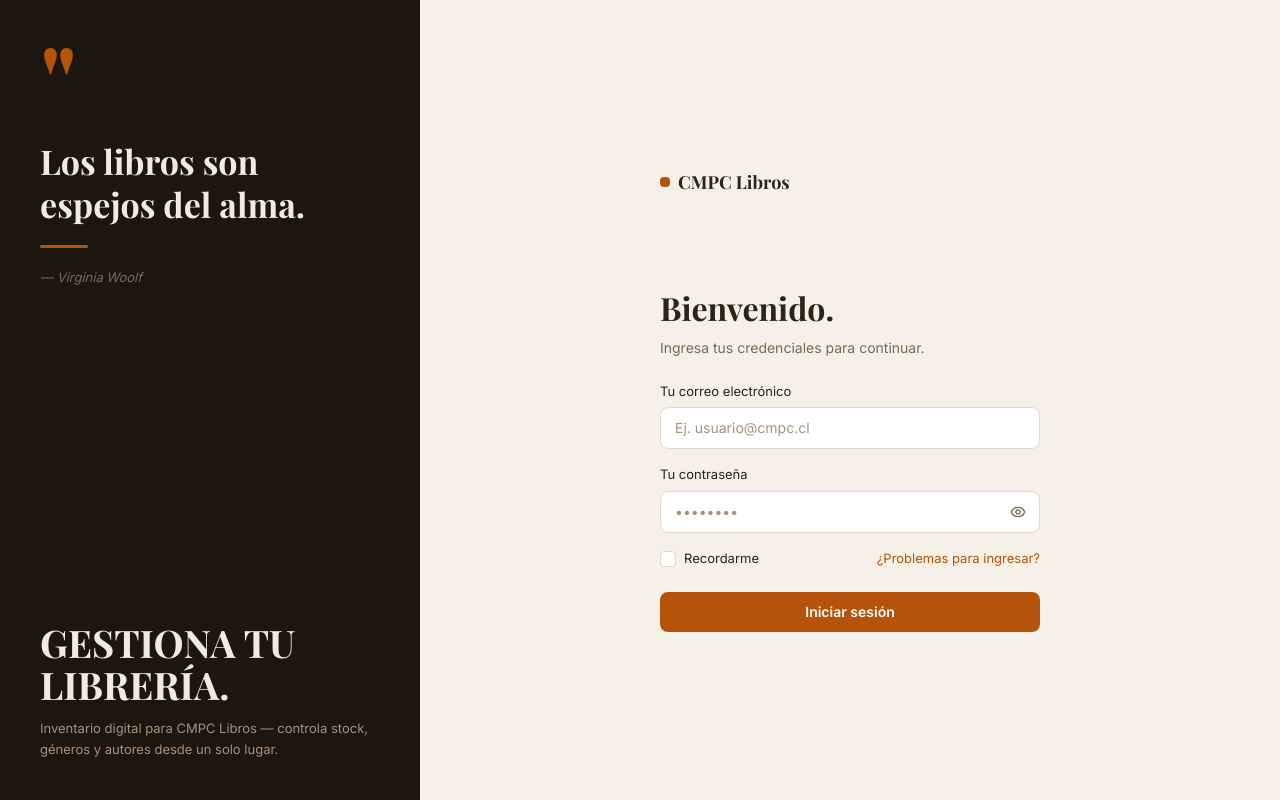
Test case: LoginPage › muestra mensaje de error si las credenciales son inválidas
Type "mal@cmpc.cl" into the field with placeholder "Ej. usuario@cmpc.cl".
click(850, 428); type("mal@cmpc.cl")  # box [660,407,1040,449]
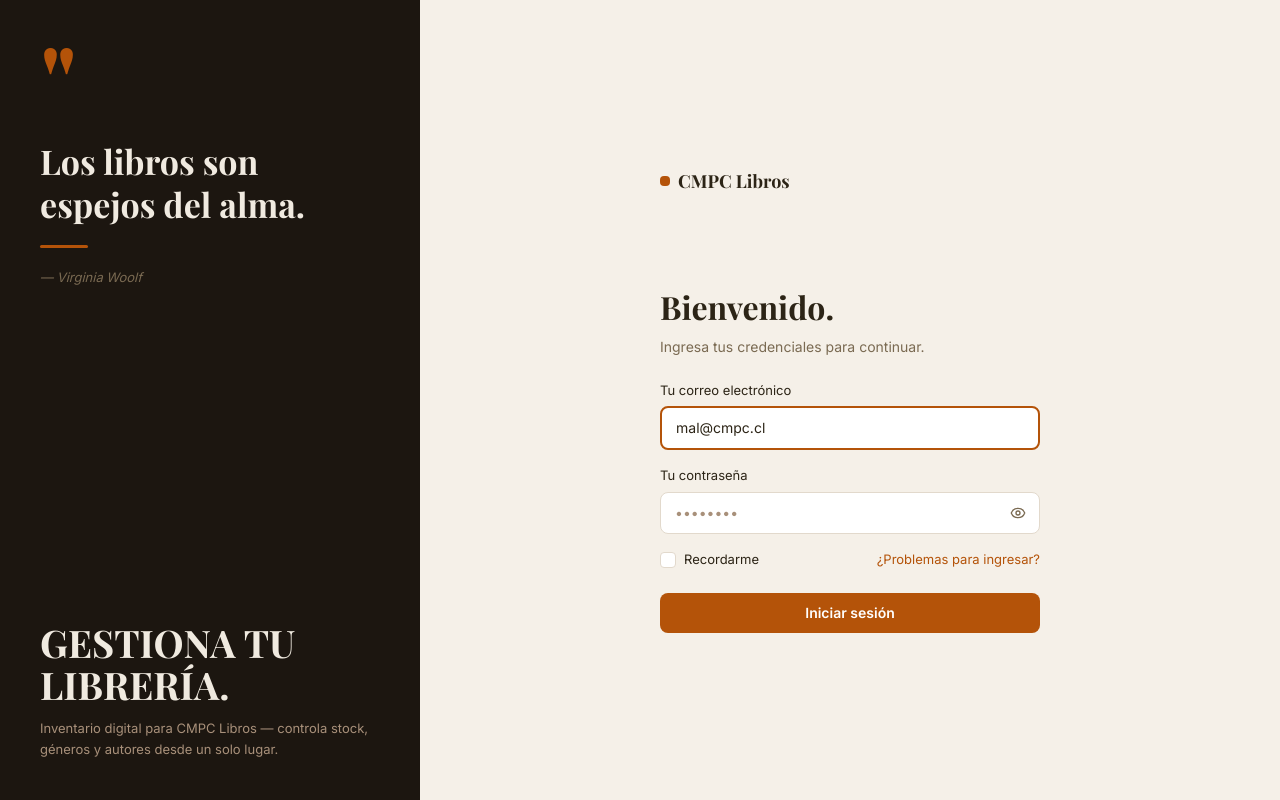
Type "wrongpassword123" into the password field with placeholder "••••••••".
click(850, 513); type("wrongpassword123")  # box [660,492,1040,534]
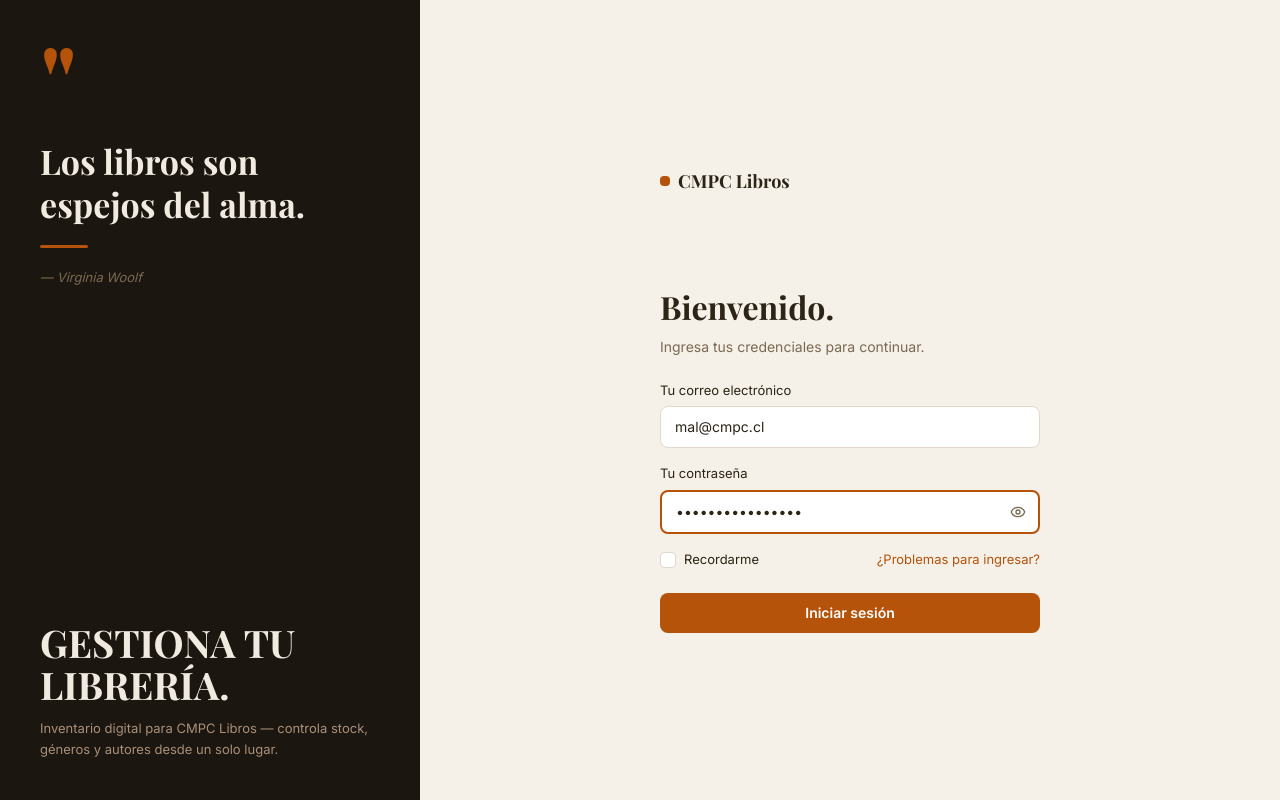
Click the button "Iniciar sesión".
click(850, 613)  # box [660,593,1040,633]
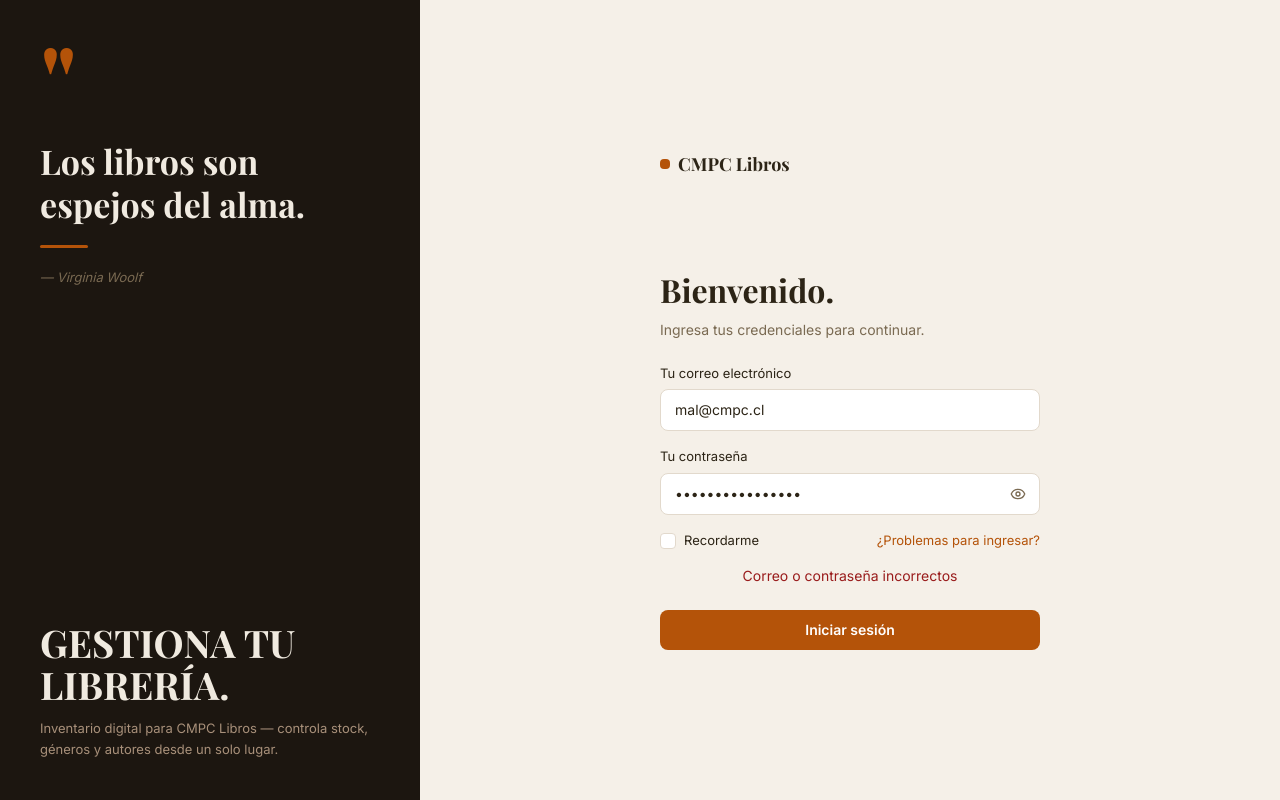
Expected: the text "Correo o contraseña incorrectos" is shown, [742,567,958,584]
